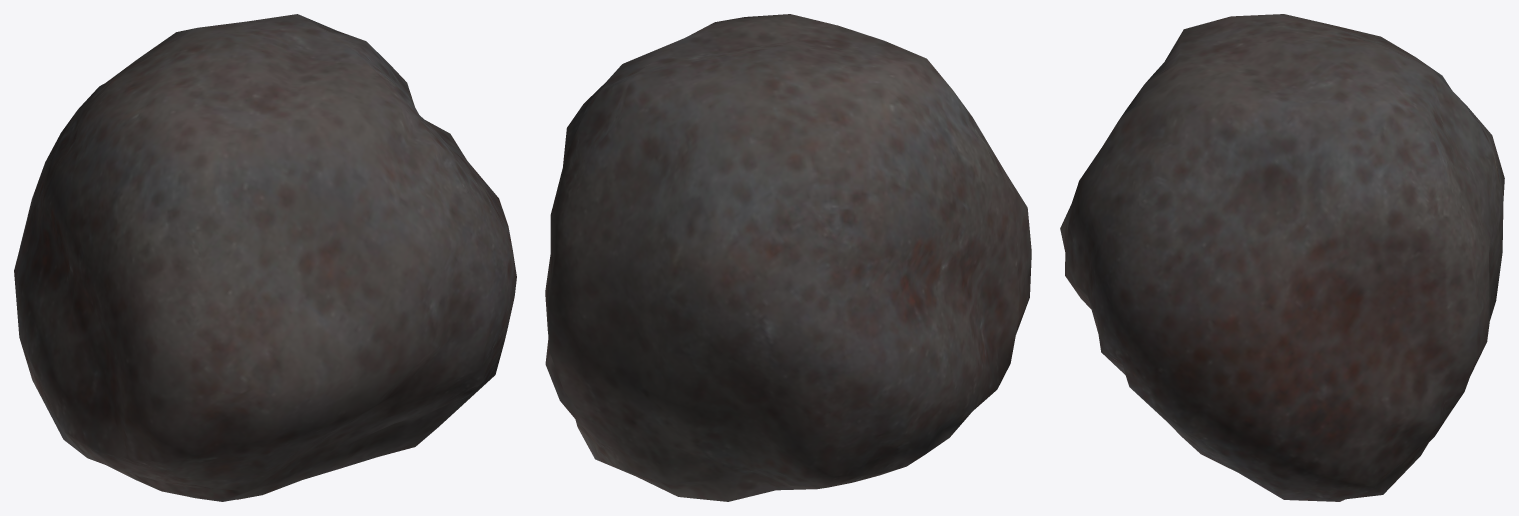
Rendered from asteroid8.dae.
3 views of the same model, side by side, from view 1: azimuth 30°, elevation 25°; view 2: azimuth 150°, elevation 25°; view 3: azimuth 270°, elevation 25° (orthographic). The views are drawn at different scales.
Parts seen in each view (by area): view 1: Lp08; view 2: Lp08; view 3: Lp08.
Boxes of the visible parts, x1,y1,x2,y2 form: Lp08: (14, 14, 516, 501); Lp08: (545, 14, 1031, 501); Lp08: (1060, 14, 1504, 501).
Bounding box in the file's own units: 7.58 × 7.69 × 7.54.
Materials: 1 (1 with a texture image).
